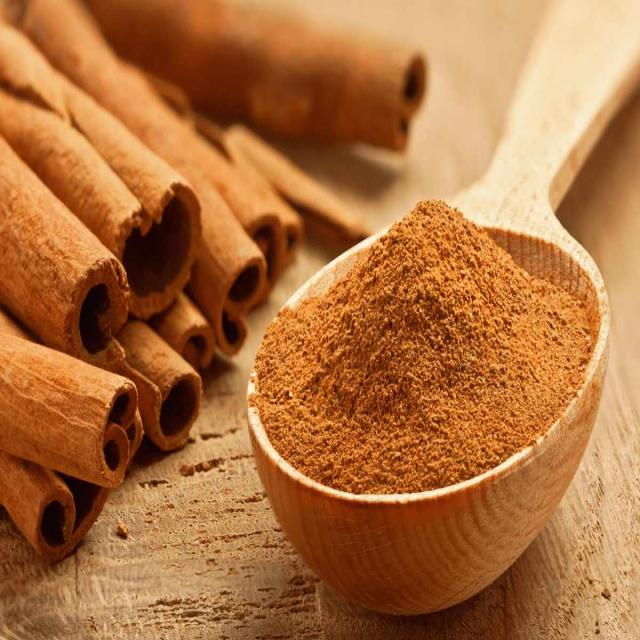Cinnamon: (89, 0, 426, 150), (0, 23, 200, 247), (0, 88, 150, 262), (0, 89, 150, 262), (195, 116, 304, 299), (186, 174, 266, 355), (118, 319, 201, 451), (150, 292, 215, 370)
